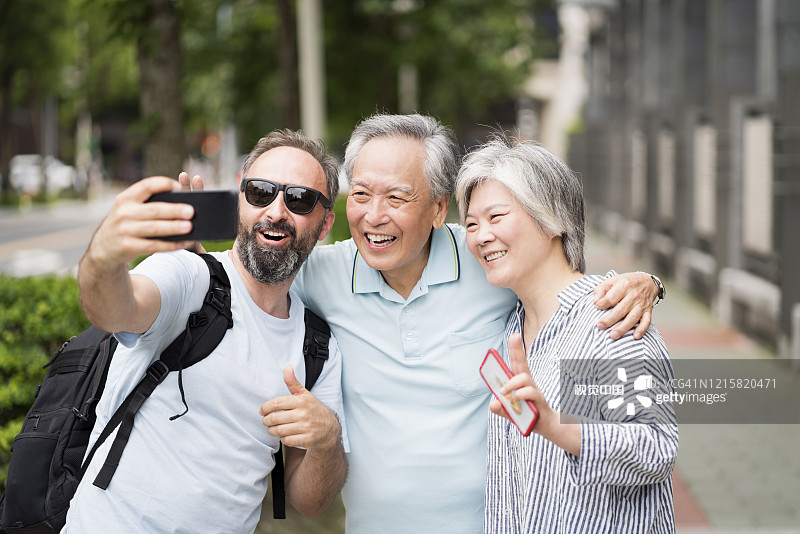no-phone: (242, 354, 350, 461), (581, 261, 669, 344)
taking photos: (70, 170, 245, 278)
